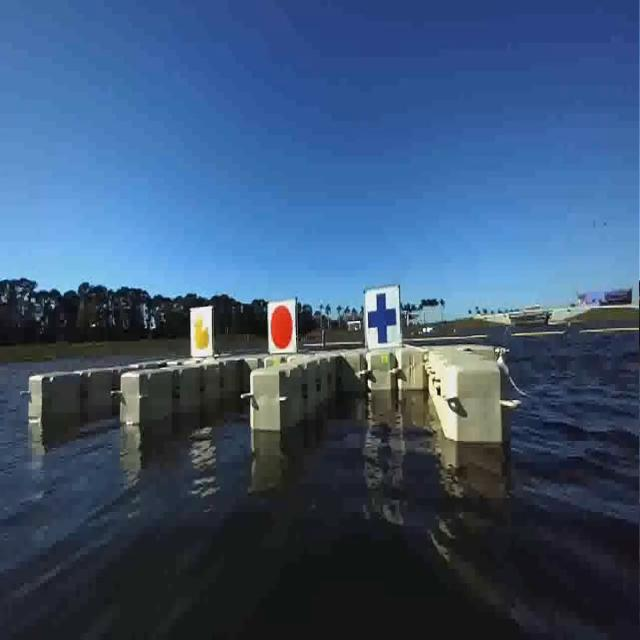blue-cross: (362, 289, 406, 353)
red-dot: (261, 296, 300, 357)
yellow-duck: (185, 301, 213, 361)
